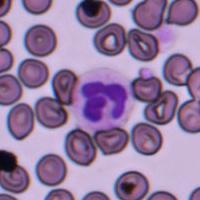N: (70, 68, 134, 132)
